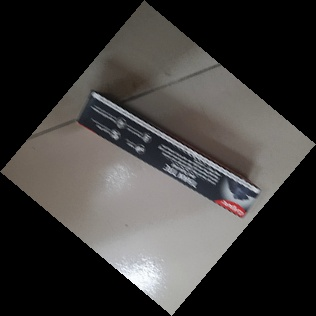Colgate Than: (77, 89, 262, 220)
